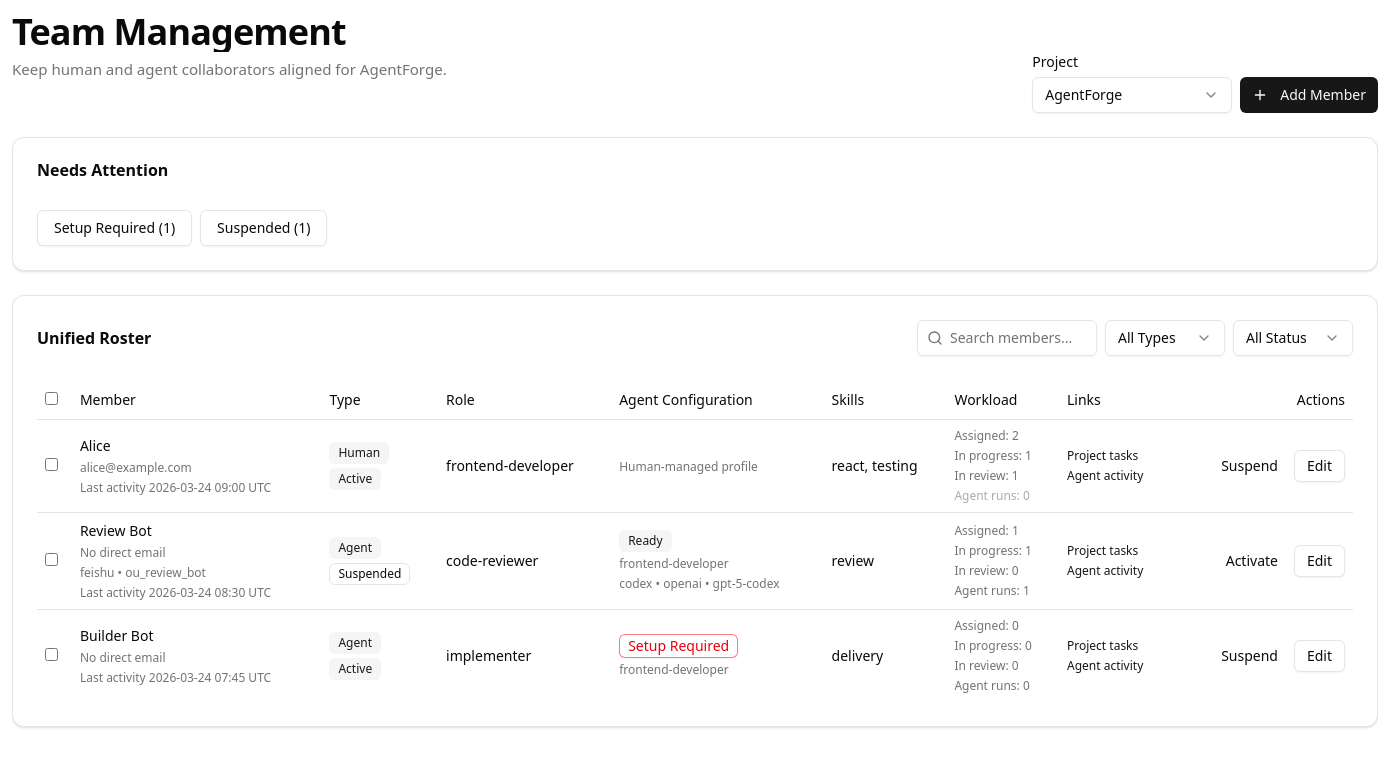
Test: TeamManagement › focuses attention categories and shows inline bulk-governance results
What coordinates should you click on to do the following:
click the button "Setup Required (1)"
I would click on:
 (115, 228)
Its box is [37,210,192,246].
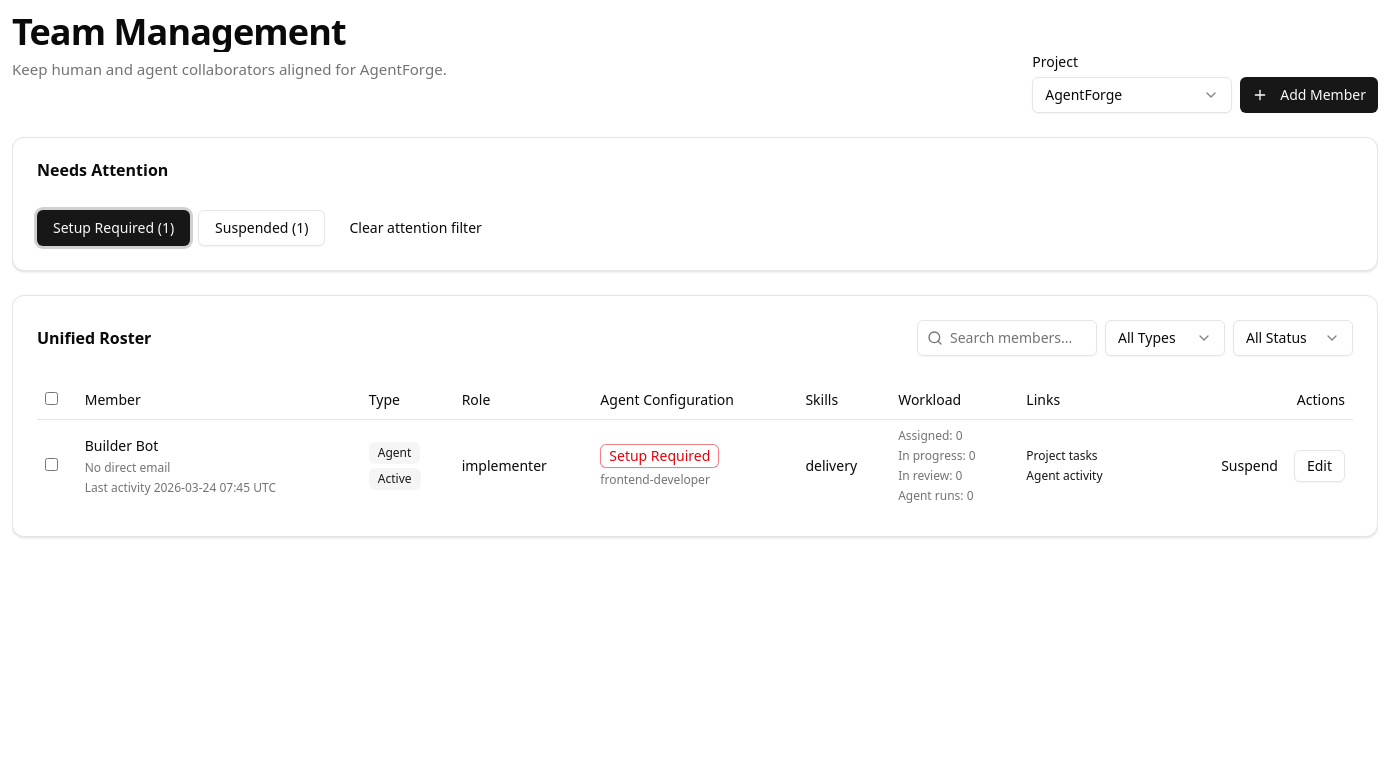
Expected: the link "Builder Bot" is shown, [85,436,158,456]
Now the link "Alice" is gone
What coordinates should you click on to do the following:
click the button "Clear attention filter"
I would click on:
 (416, 228)
Its box is [334,210,498,246].
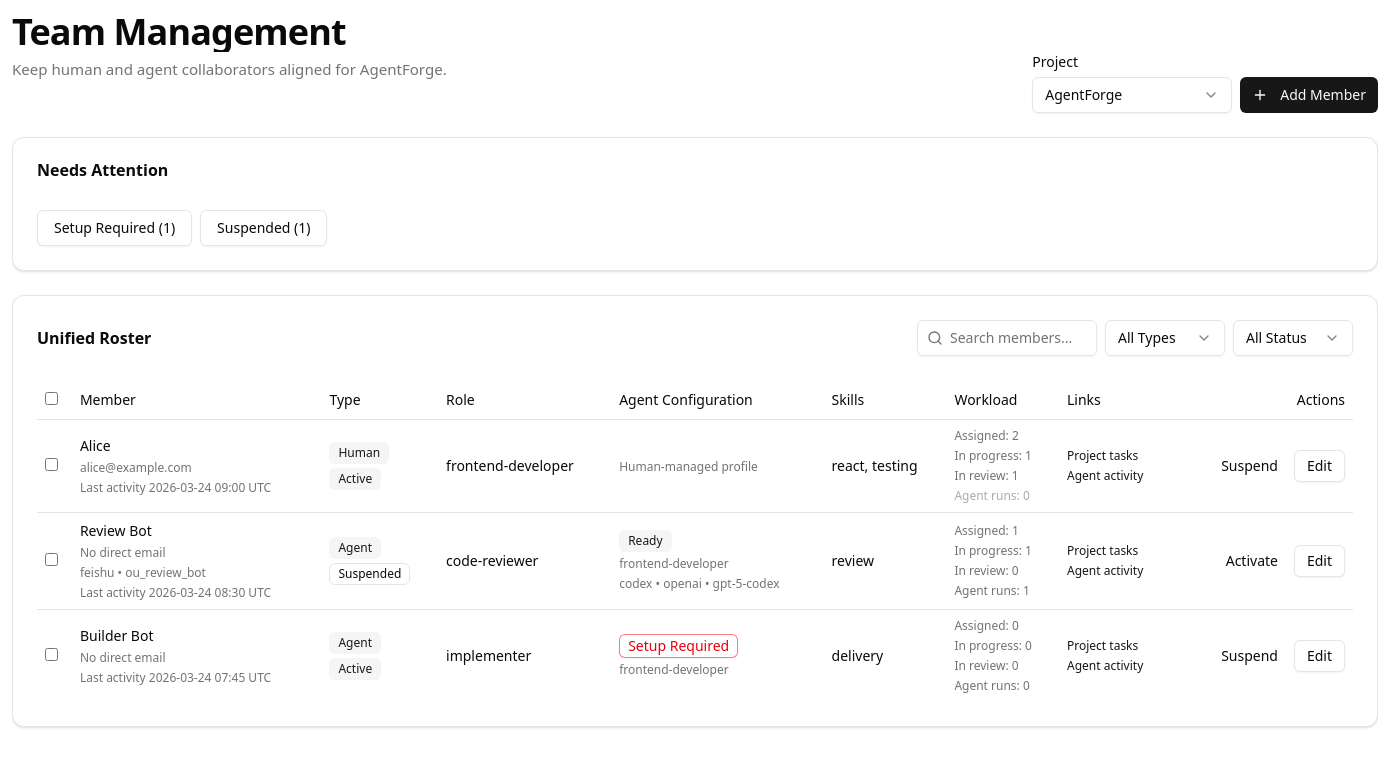
Now the link "Alice" is shown, box [80,436,111,456]
What coordinates should you click on to do the following:
click the checkbox named "Select Alice"
I would click on:
 (52, 465)
Its box is [45,458,58,472].
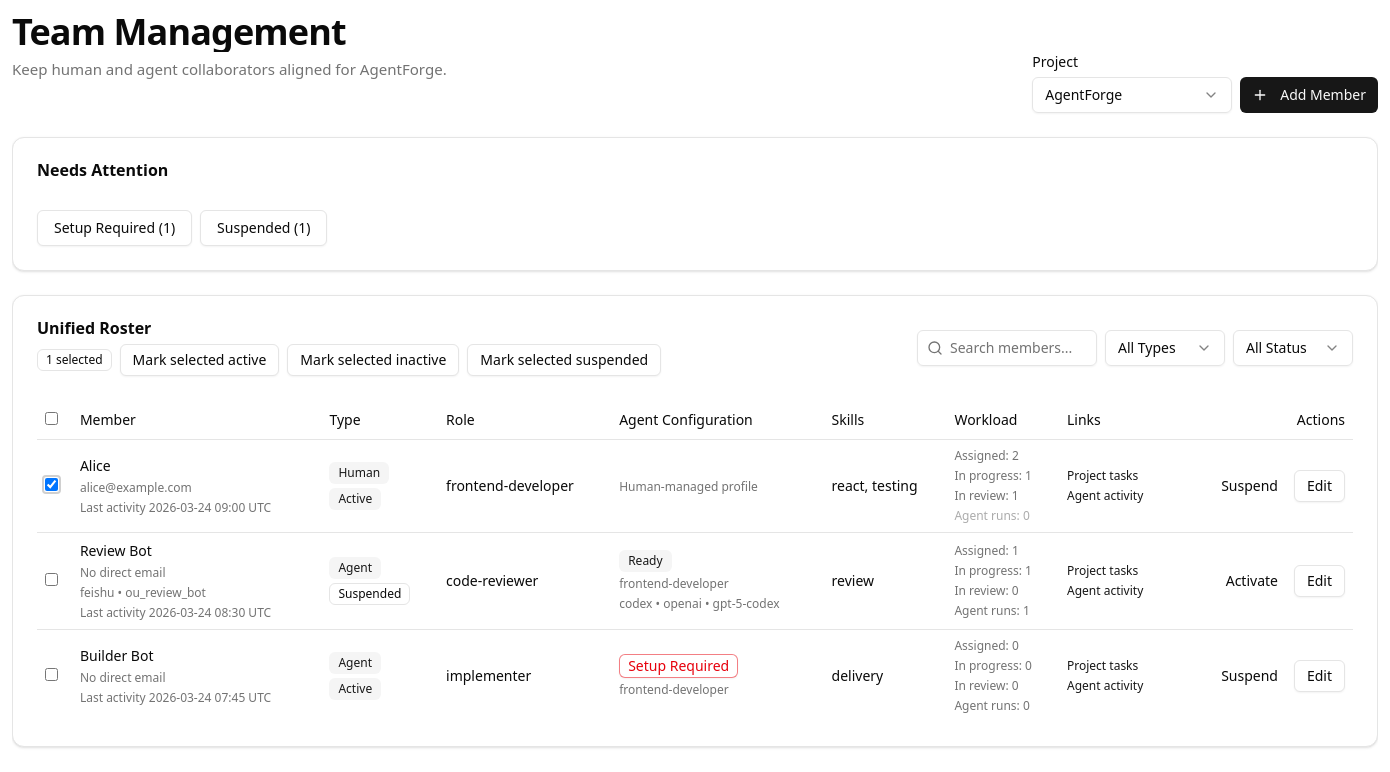
What coordinates should you click on to do the following:
click the checkbox named "Select Review Bot"
I would click on:
 (52, 580)
Its box is [45,574,58,586].
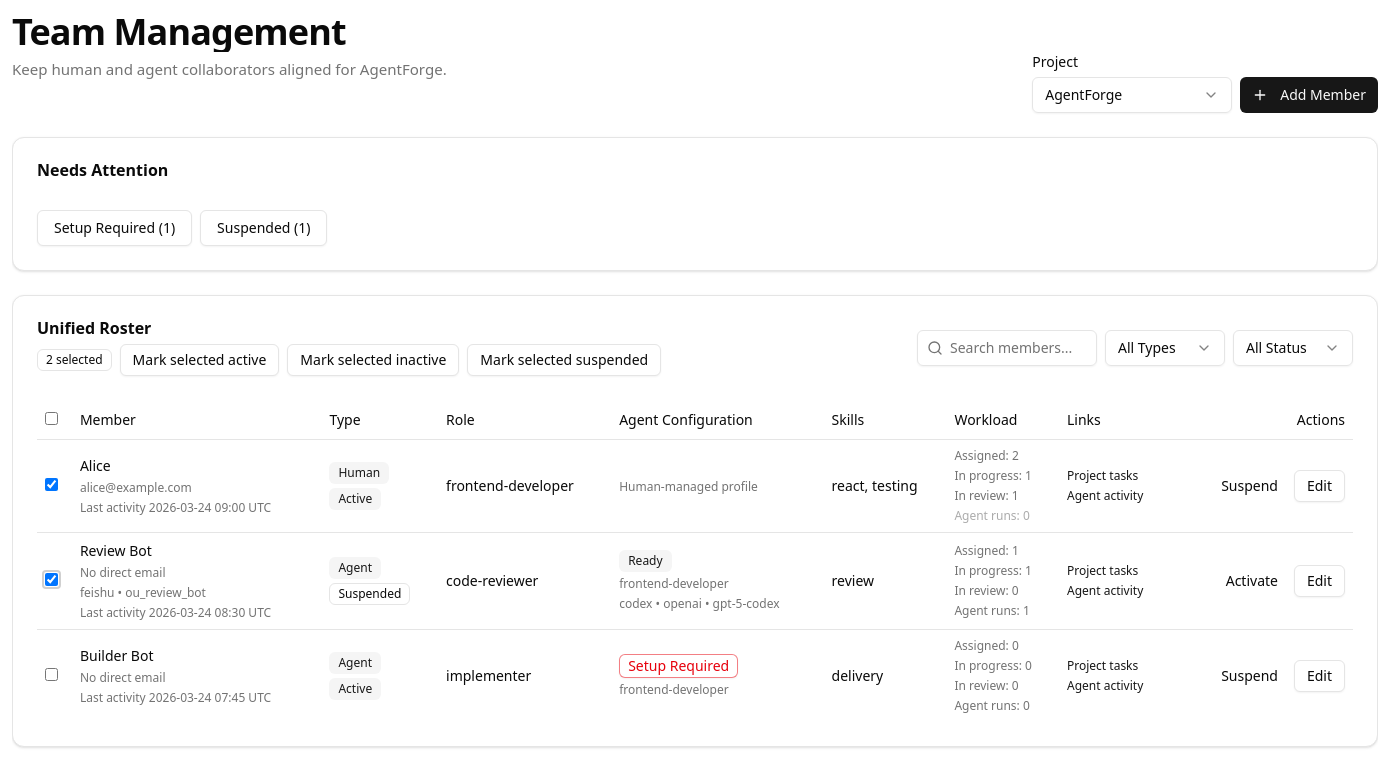
What coordinates should you click on to do the following:
click the button "Mark selected inactive"
I would click on:
 (373, 360)
Its box is [287,344,459,376].
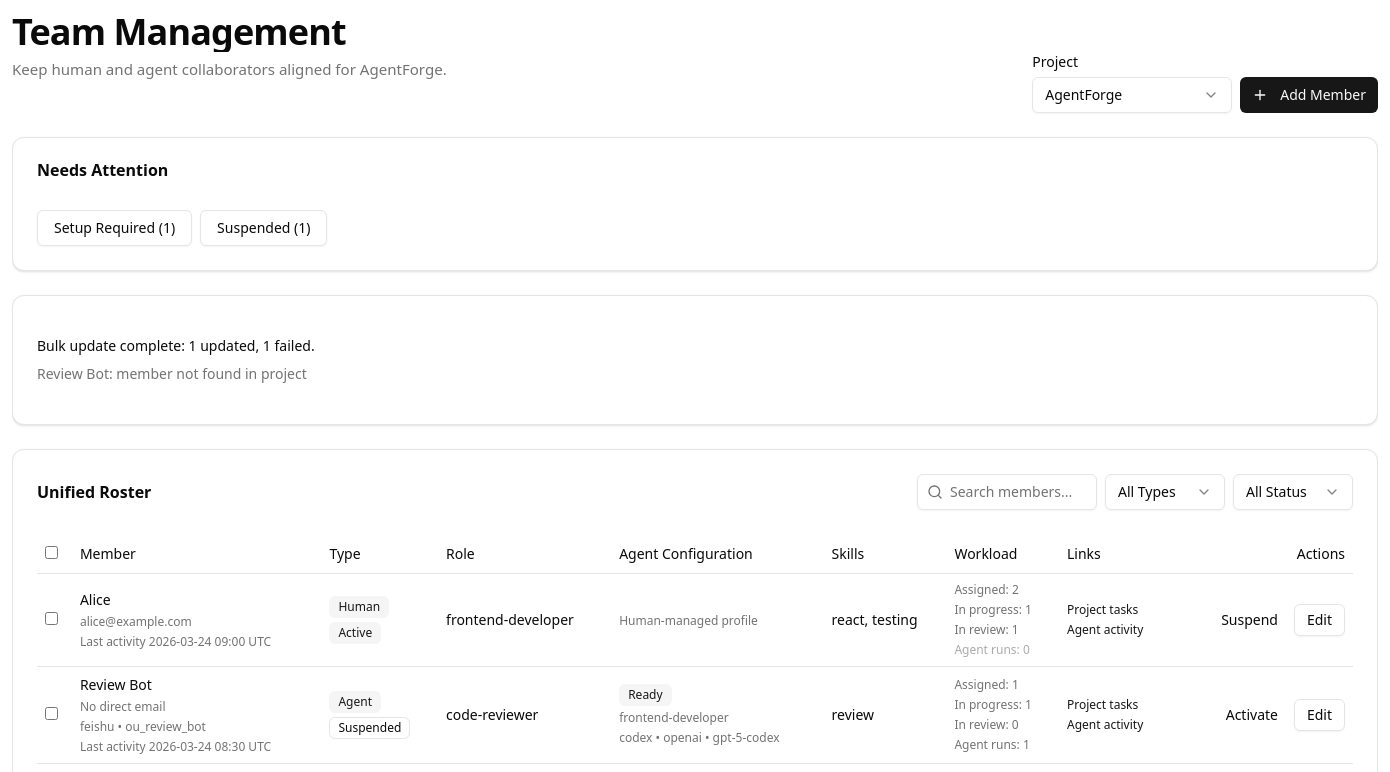
Now the text "Bulk update complete: 1 updated, 1 failed." is shown, box [37,336,315,355]
Now the list item "Review Bot: member not found in project" is shown, box [37,364,307,383]
